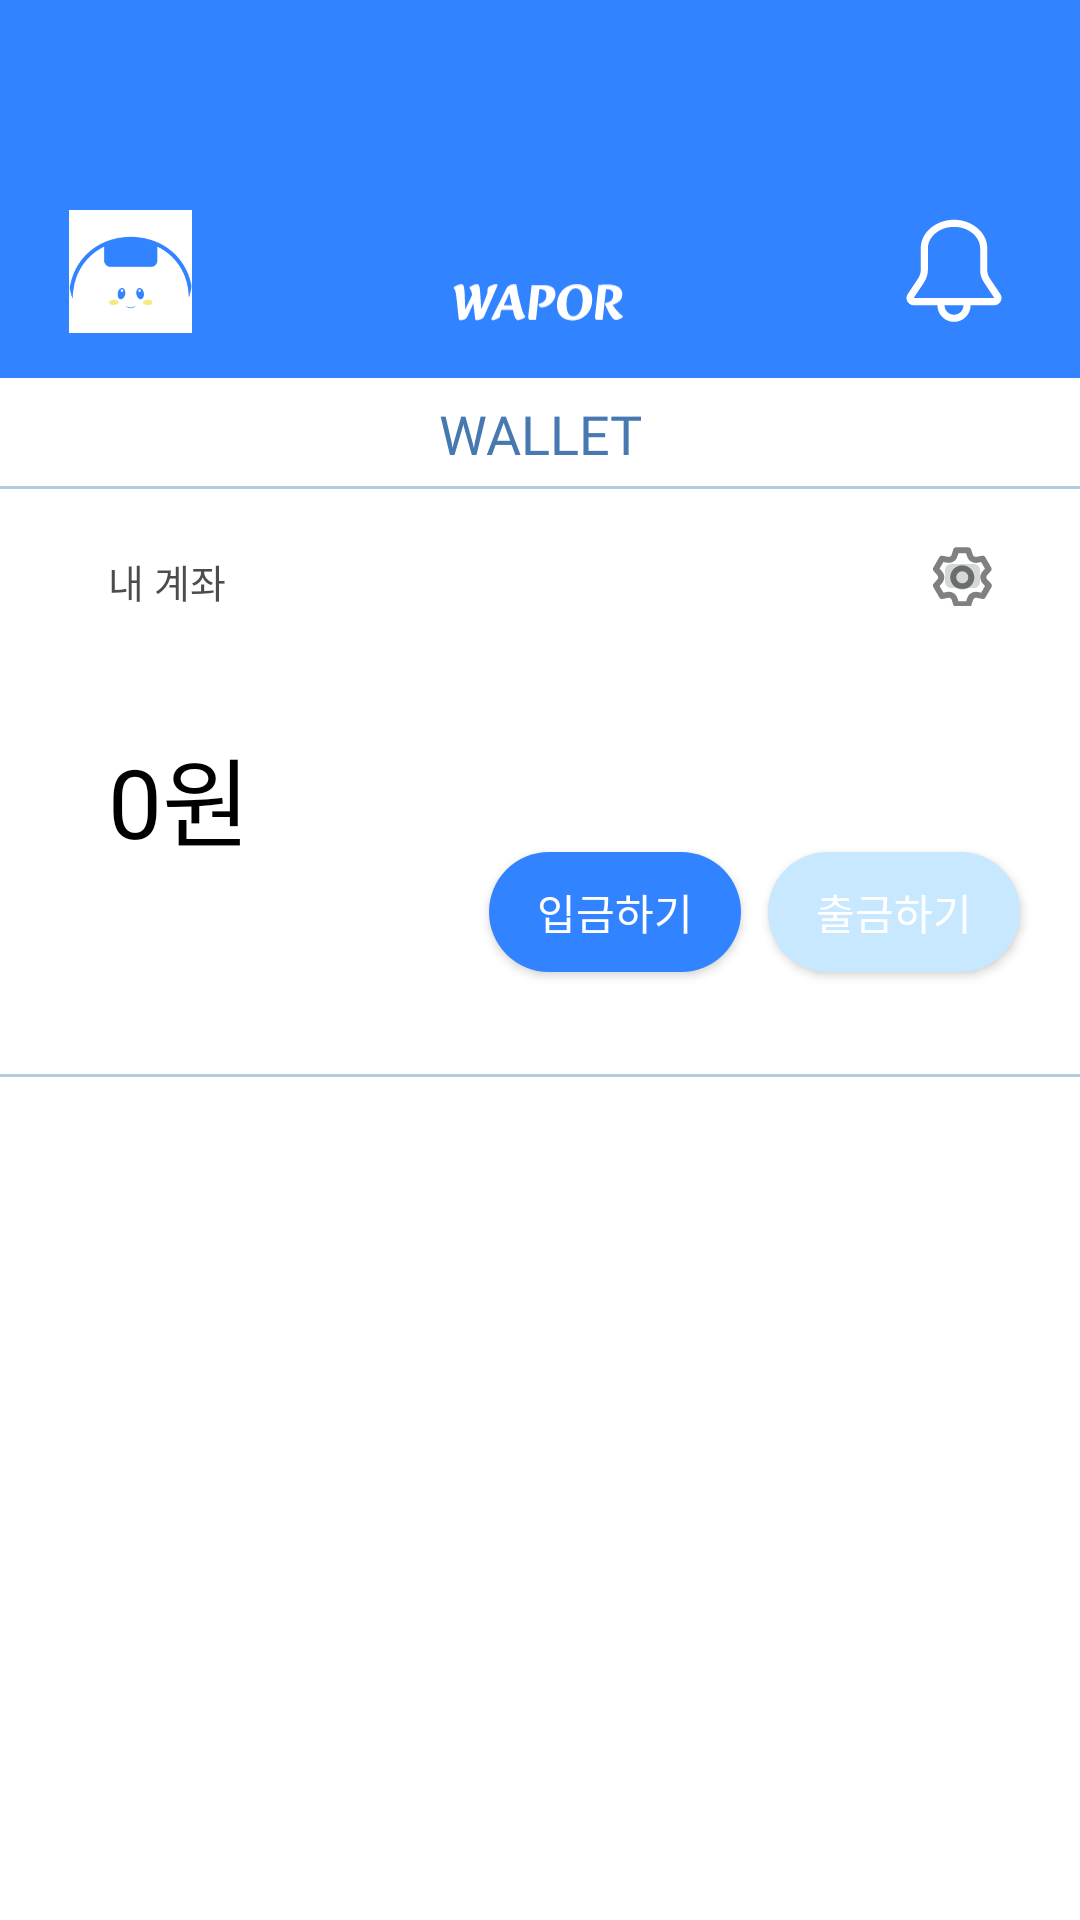

Screen size 1080 x 1920. Icon name, then its box in pixels as BBox(x1, y1, x2, y2):
alarm: BBox(906, 219, 1002, 322)
setting: BBox(933, 547, 992, 606)
